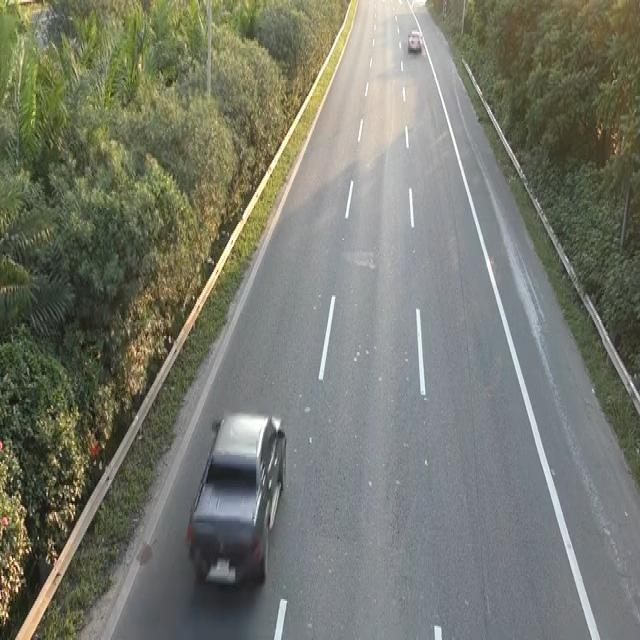car: (184, 406, 288, 590)
